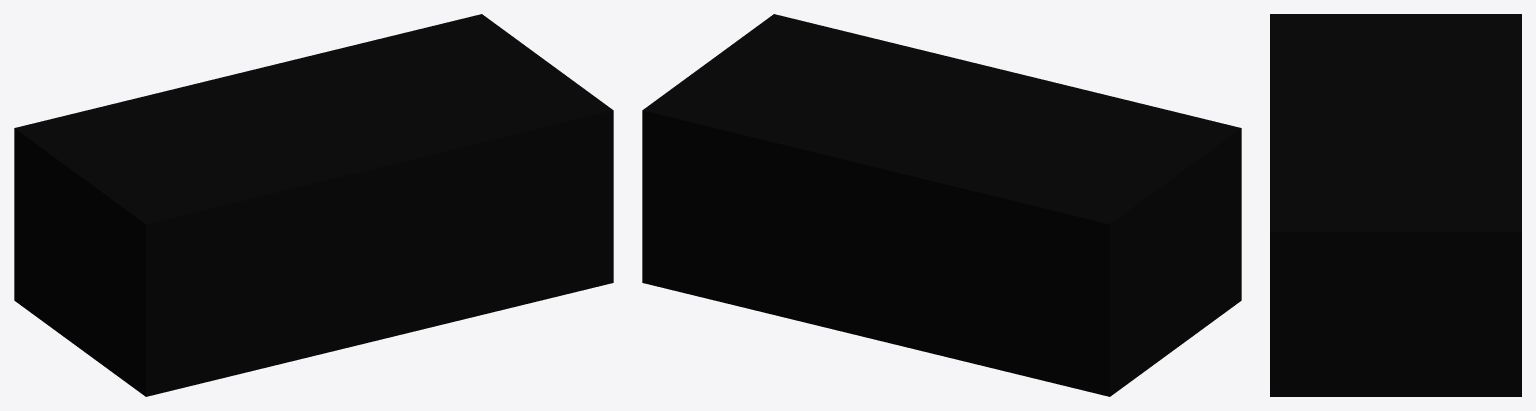
File: 100 Pin Bowling Room.obj
3 renders of one model, left to right at view 1: azimuth 30°, elevation 25°; view 2: azimuth 150°, elevation 25°; view 3: azimuth 270°, elevation 25°, orthographic. The views are drawn at different scales.
Parts seen in each view (by area): view 1: WS2_bwl_field_91.mo_WS2_bwl_field_91.md.002; view 2: WS2_bwl_field_91.mo_WS2_bwl_field_91.md.002; view 3: WS2_bwl_field_91.mo_WS2_bwl_field_91.md.002.
Part boxes in pixels (x1=…): WS2_bwl_field_91.mo_WS2_bwl_field_91.md.002: x1=14, y1=14, x2=613, y2=396; WS2_bwl_field_91.mo_WS2_bwl_field_91.md.002: x1=642, y1=14, x2=1241, y2=396; WS2_bwl_field_91.mo_WS2_bwl_field_91.md.002: x1=1270, y1=14, x2=1521, y2=396.
Size of the model in its own units: 5.04 by 1.78 by 2.46.
30 materials, 24 textured.
